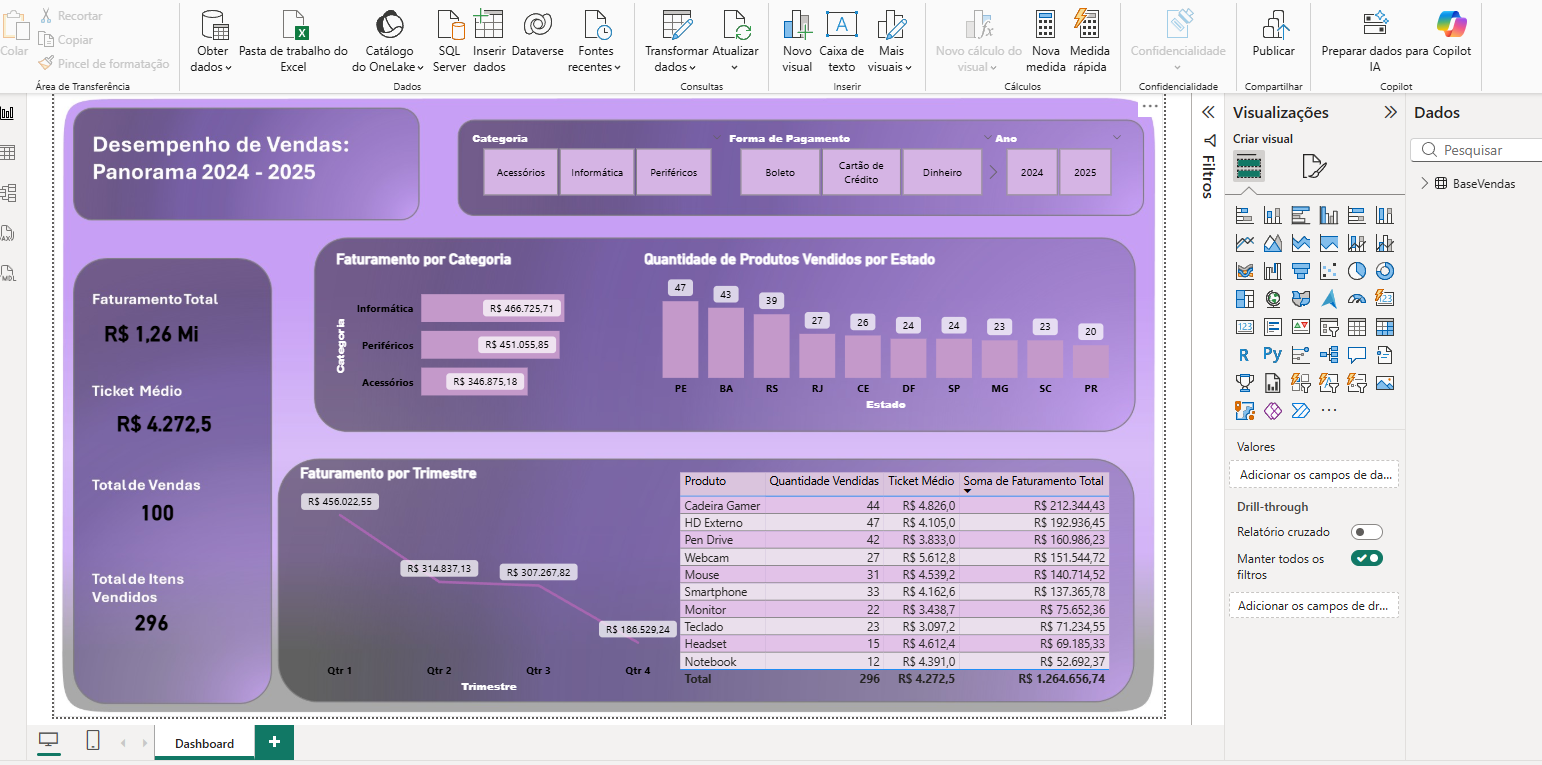

The page's visual inventory and layout, read from the dashboard file:
{"tool":"powerbi","page":{"name":"Dashboard","canvas":[1280,720],"ordinal":0},"visuals":[{"type":"image","box":[0,0,1279.6,720],"z":0},{"type":"card","fields":{"Values":["BaseVendas.Quantidade Vendidas"]},"box":[39.2,565.4,146.5,90],"z":1000},{"type":"barChart","title":"Faturamento por Categoria","fields":{"Category":["BaseVendas.Categoria"],"Y":["Sum(BaseVendas.Faturamento Total)"]},"box":[320.8,181.2,346.2,191.5],"z":2000},{"type":"columnChart","title":"Quantidade de Produtos Vendidos por Estado","fields":{"Category":["BaseVendas.Estado"],"Y":["BaseVendas.Quantidade Vendidas"]},"box":[675.8,180.8,567.7,191.5],"z":3000},{"type":"slicer","fields":{"Values":["BaseVendas.Ano"]},"box":[1073.1,38.1,170.8,86.5],"z":4000},{"type":"slicer","fields":{"Values":["BaseVendas.Forma_Pagamento"]},"box":[765.8,37.7,328.8,86.5],"z":5000},{"type":"slicer","fields":{"Values":["BaseVendas.Categoria"]},"box":[469.2,37.7,312.7,86.5],"z":6000},{"type":"lineChart","title":"Faturamento por Trimestre","fields":{"Category":["BaseVendas.Data_Venda.Variation.Hierarquia de datas.Trimestre"],"Y":["Sum(BaseVendas.Faturamento Total)"]},"box":[279.2,428.1,445.4,270],"z":7000},{"type":"tableEx","fields":{"Values":["BaseVendas.Produto","BaseVendas.Quantidade Vendidas","BaseVendas.Ticket Médio","Sum(BaseVendas.Faturamento Total)"]},"box":[716.5,432.7,512.3,265.4],"z":8000},{"type":"card","fields":{"Values":["BaseVendas.Ticket Médio"]},"box":[30,340.4,195,80.8],"z":9000},{"type":"card","fields":{"Values":["BaseVendas.Receita Total"]},"box":[30,230.8,165,92.3],"z":10000},{"type":"card","fields":{"Values":["BaseVendas.Total de Vendas"]},"box":[42.7,451.2,152.3,64.6],"z":11000}]}

Visuals, with their boxes on the page's 1280x720 design canvas (x1, y1, x2, y2). These are canvas units, not pixel positions in the 1542x765 screenshot, which may show the page scaled, cropped or inside an application window:
image: [0, 0, 1280, 720]
card - BaseVendas.Quantidade Vendidas: [39, 565, 186, 655]
"Faturamento por Categoria" barChart: [321, 181, 667, 373]
"Quantidade de Produtos Vendidos por Estado" columnChart: [676, 181, 1244, 372]
slicer - BaseVendas.Ano: [1073, 38, 1244, 125]
slicer - BaseVendas.Forma_Pagamento: [766, 38, 1095, 124]
slicer - BaseVendas.Categoria: [469, 38, 782, 124]
"Faturamento por Trimestre" lineChart: [279, 428, 725, 698]
tableEx - BaseVendas.Produto x BaseVendas.Quantidade Vendidas: [716, 433, 1229, 698]
card - BaseVendas.Ticket Médio: [30, 340, 225, 421]
card - BaseVendas.Receita Total: [30, 231, 195, 323]
card - BaseVendas.Total de Vendas: [43, 451, 195, 516]
